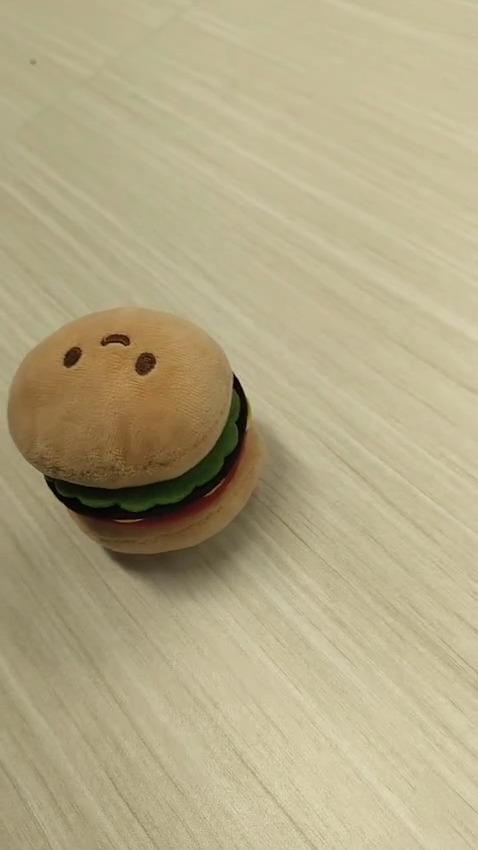hamburger: (6, 305, 264, 556)
